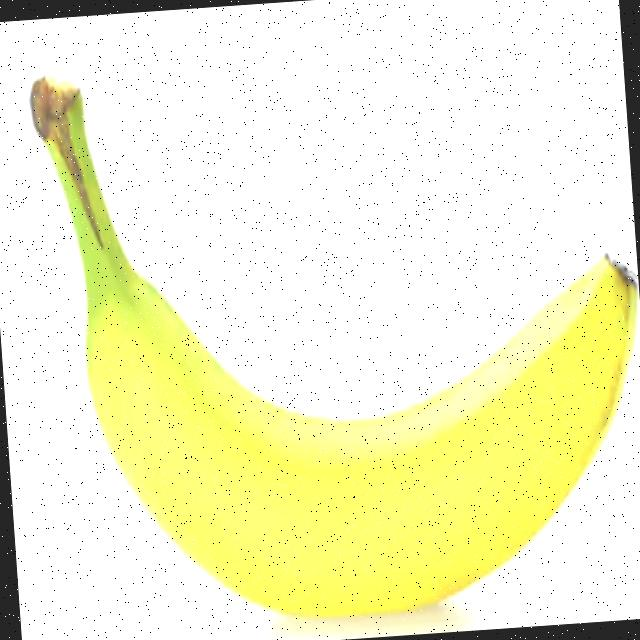Ripe: (13, 26, 640, 640)
